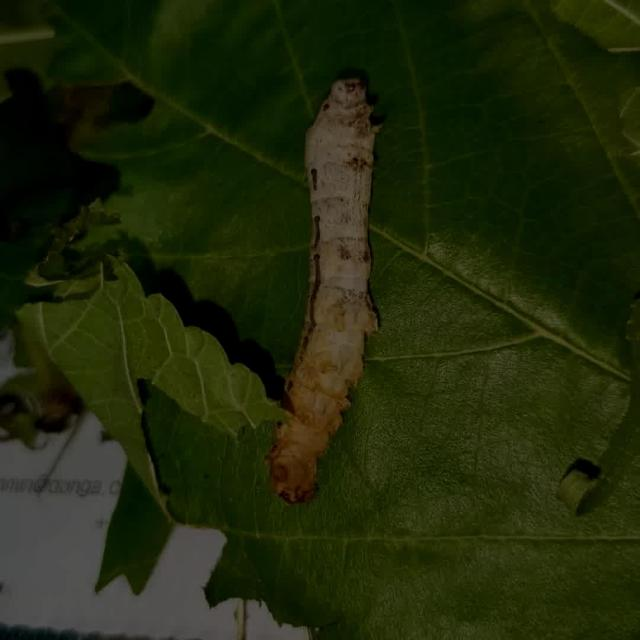Grasserie: (257, 68, 408, 516)
